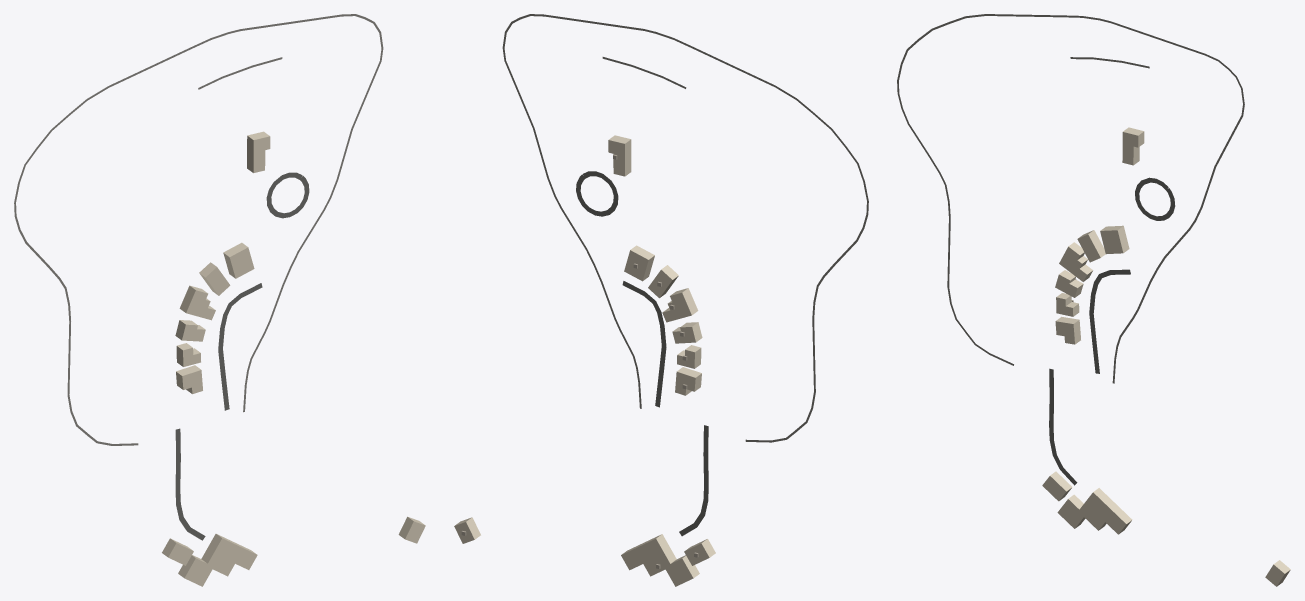
The model's file is historic-palestine-12_21_3540_3157.glb.
3 views of the same model, side by side, from view 1: azimuth 30°, elevation 25°; view 2: azimuth 150°, elevation 25°; view 3: azimuth 330°, elevation 25° (orthographic). The views are drawn at different scales.
Visible parts, largest first — view 1: Road .004, Building_.009, Building_.007, Building_.004, Road .003, Building_.002, Road .001, Road .002, Building_.001, Building_.006; view 2: Road .004, Building_.009, Building_.007, Building_.004, Road .003, Building_.002, Road .001, Road .002, Building_.001, Building_.006; view 3: Road .004, Building_.009, Building_.004, Building_.007, Building_.002, Road .003, Road .001, Road .002, Building_.001, Building_.006, Building_.008.
Part boxes in pixels (x1=…): Road .004: x1=14, y1=14, x2=383, y2=445; Building_.009: x1=178, y1=534, x2=257, y2=586; Building_.007: x1=247, y1=131, x2=270, y2=173; Building_.004: x1=179, y1=285, x2=215, y2=320; Road .003: x1=218, y1=283, x2=262, y2=410; Building_.002: x1=223, y1=242, x2=254, y2=278; Road .001: x1=175, y1=428, x2=205, y2=540; Road .002: x1=266, y1=172, x2=309, y2=218; Building_.001: x1=176, y1=365, x2=202, y2=394; Building_.006: x1=199, y1=262, x2=230, y2=295; Road .004: x1=502, y1=14, x2=868, y2=442; Building_.009: x1=621, y1=534, x2=699, y2=586; Building_.007: x1=608, y1=135, x2=631, y2=176; Building_.004: x1=662, y1=288, x2=698, y2=322; Road .003: x1=622, y1=281, x2=666, y2=407; Building_.002: x1=624, y1=245, x2=654, y2=281; Road .001: x1=679, y1=425, x2=708, y2=536; Road .002: x1=576, y1=171, x2=618, y2=216; Building_.001: x1=675, y1=367, x2=701, y2=395; Building_.006: x1=648, y1=265, x2=678, y2=298; Road .004: x1=897, y1=14, x2=1244, y2=383; Building_.009: x1=1057, y1=488, x2=1132, y2=534; Building_.004: x1=1059, y1=242, x2=1092, y2=281; Building_.007: x1=1122, y1=127, x2=1144, y2=165; Building_.002: x1=1100, y1=225, x2=1129, y2=254; Road .003: x1=1089, y1=269, x2=1130, y2=373; Road .001: x1=1049, y1=368, x2=1077, y2=485; Road .002: x1=1135, y1=177, x2=1175, y2=220; Building_.001: x1=1055, y1=316, x2=1080, y2=344; Building_.006: x1=1077, y1=230, x2=1105, y2=262; Building_.008: x1=1042, y1=471, x2=1072, y2=501.
Size of the model in its own units: 276 by 357 by 8.7.
